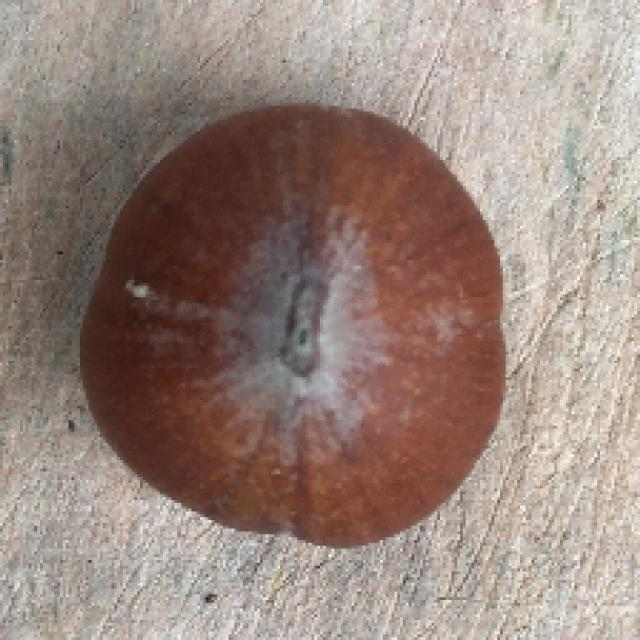QualityHazelnut: (78, 105, 505, 551)
